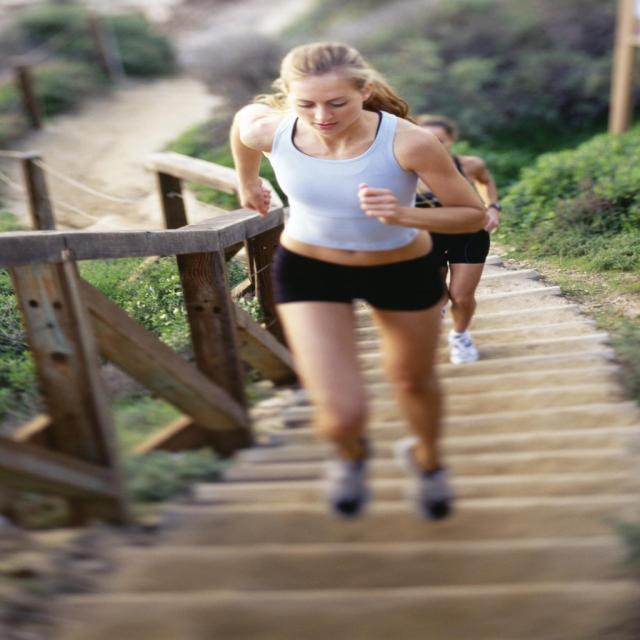Face: (270, 67, 372, 135)
